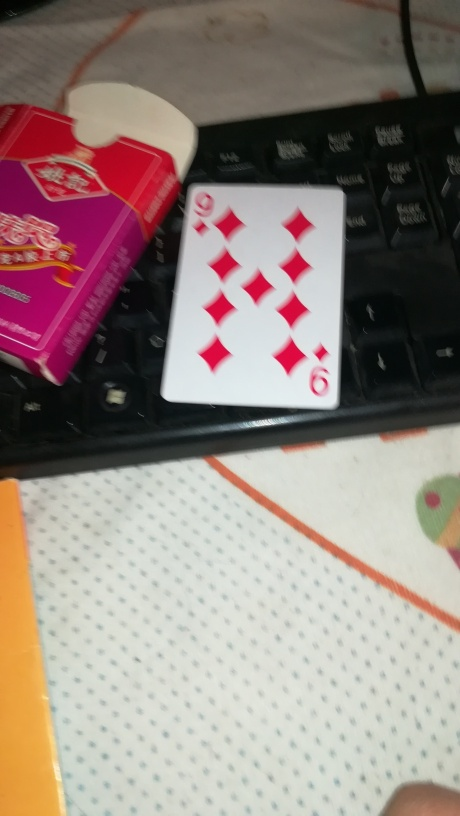fk 9: (156, 182, 348, 414)
